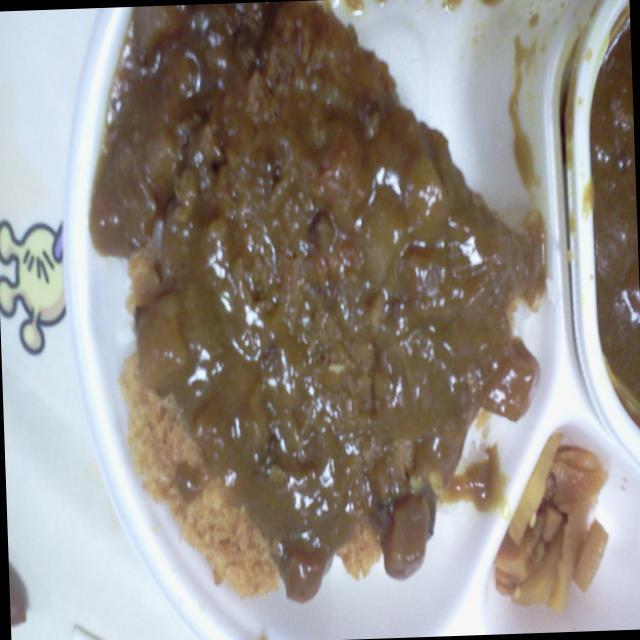Beef Curry: (70, 16, 564, 628)
